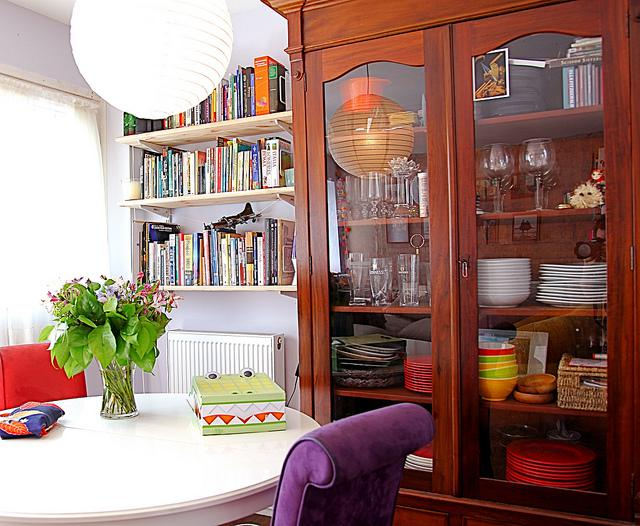Airplane: (205, 202, 261, 231)
